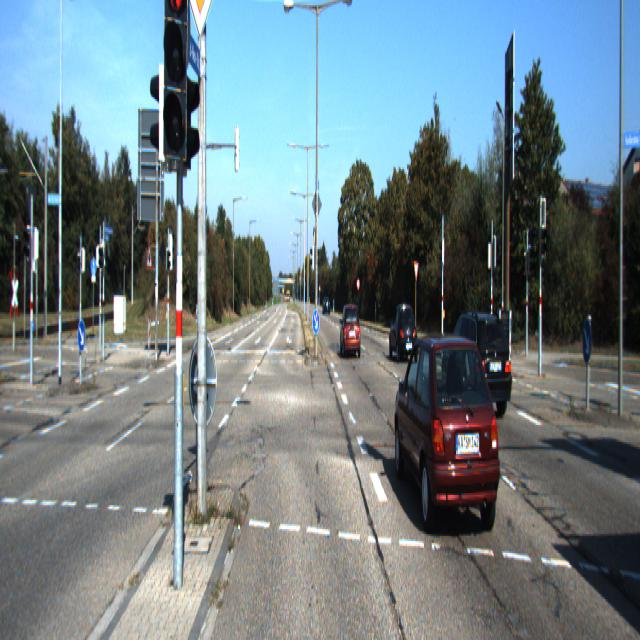Car: (393, 325, 502, 549), (439, 307, 514, 422), (389, 303, 418, 364), (340, 303, 360, 359)
